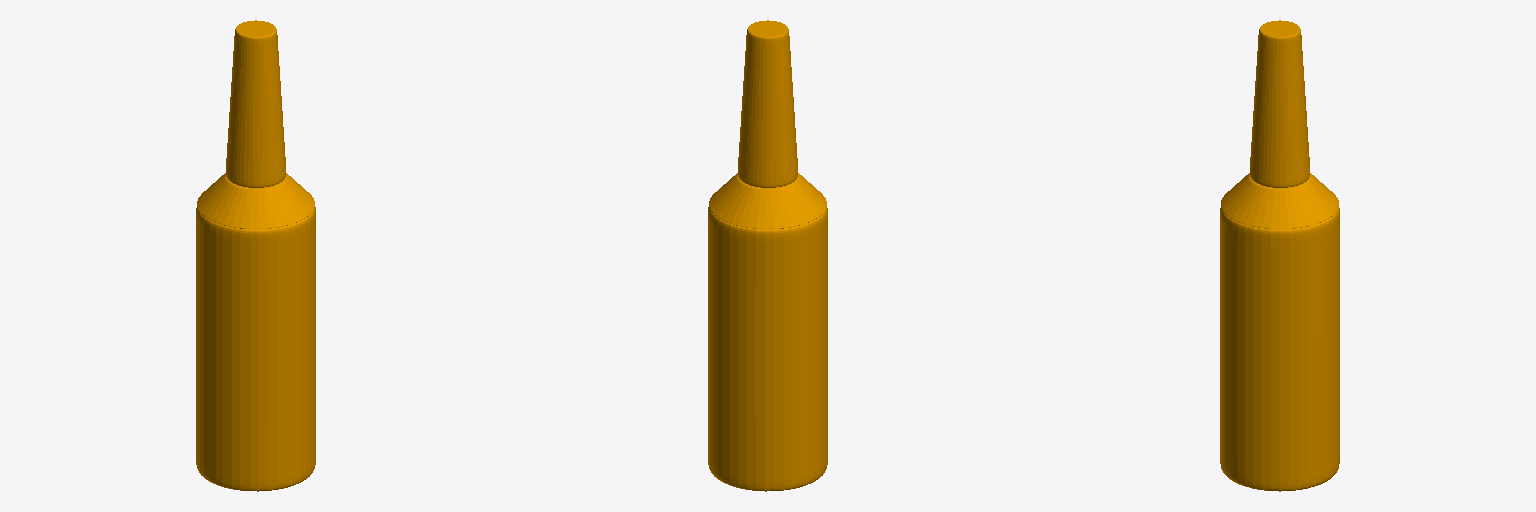
The robot description file, URDF, robot "object_320541066":

		<robot name="object_320541066">
			<link name="link_object_320541066">
				<visual>
					<geometry>
						<mesh filename="temp_object_320541066.obj" />
					</geometry>
				</visual>

				<collision>
					<geometry>
						<mesh filename="temp_object_320541066.obj" />
					</geometry>
				</collision>
				
				<inertial>
					<origin rpy="0 0 0" xyz="0 0 0"/>
					<mass value="0.3" />
					<inertia ixx="0.3" ixy="0" ixz="0" iyy="0.3" iyz="0" izz="0.3" />
				</inertial>
			</link>
		</robot>
		

--- Facts derived from the render (not from the file) ---
3 views of the same robot in one strip: view 1: azimuth 30°, elevation 25°; view 2: azimuth 150°, elevation 25°; view 3: azimuth 270°, elevation 25° (orthographic).
Model object_320541066 with 1 links and 0 joints (none), rooted at link_object_320541066, posed all joints at 0.
Visible links, largest first — view 1: link_object_320541066; view 2: link_object_320541066; view 3: link_object_320541066.
Boxes of the visible links, left/top/right/bottom form: link_object_320541066: left=196, top=20, right=315, bottom=491; link_object_320541066: left=708, top=20, right=827, bottom=491; link_object_320541066: left=1220, top=20, right=1339, bottom=491.
Bounding box of the posed robot: 0.0652 × 0.0652 × 0.2625 m (x, y, z).
1 mesh visuals loaded from 1 distinct referenced files (1 OBJ).
